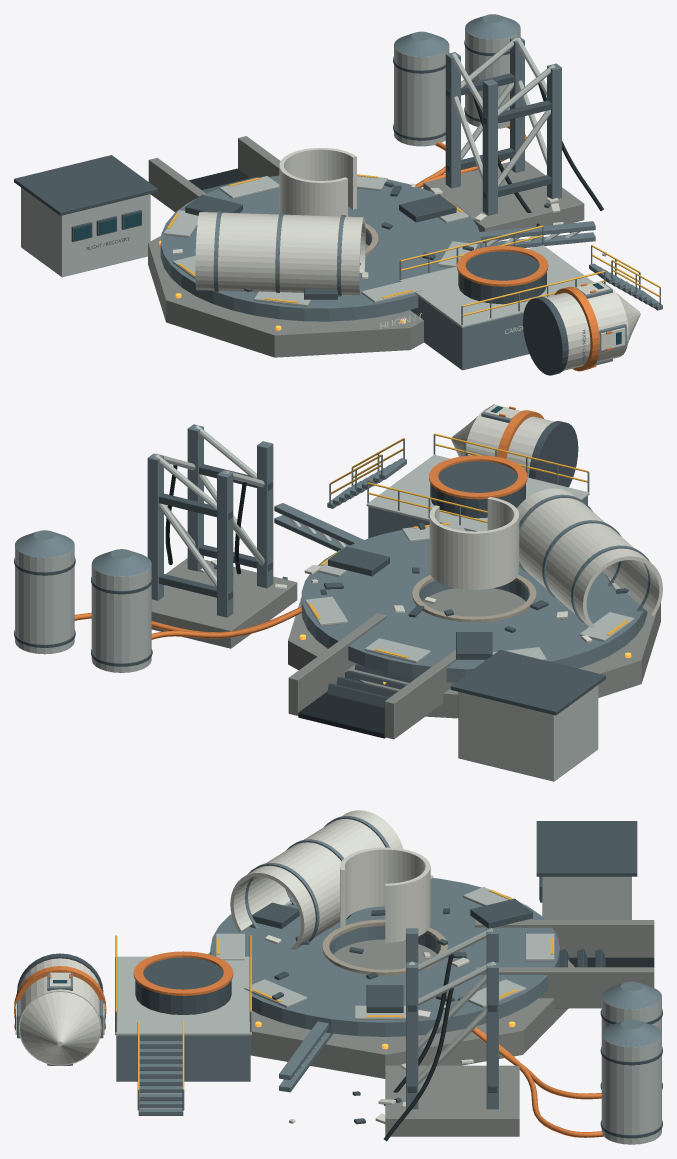
The model's file is hugin_launchpad_d3.glb.
3 renders of one model, top to bottom at view 1: azimuth 30°, elevation 25°; view 2: azimuth 150°, elevation 25°; view 3: azimuth 270°, elevation 25°, orthographic. The views are drawn at different scales.
Visible parts, largest first — view 1: Raised launch deck.003, Fallen open pressure hull, Octagonal launch foundation.003, Launch control shelter.003, Control shelter roof.003, Ruptured booster stump, Tower raft.003, Cargo receiving deck.003, Service pressure tank.006, Receiving deck surface.003, Cargo receiving pedestal.003, Cargo pressure hull.003 (+24 smaller); view 2: Raised launch deck.003, Fallen open pressure hull, Launch control shelter.003, Octagonal launch foundation.003, Tower raft.003, Ruptured booster stump, Control shelter roof.003, Service pressure tank.006, Service pressure tank.007, Cargo receiving pedestal.003, Receiving deck surface.003, Flame trench wall.007 (+29 smaller); view 3: Raised launch deck.003, Octagonal launch foundation.003, Fallen open pressure hull, Tower raft.003, Ruptured booster stump, Control shelter roof.003, Service pressure tank.007, Receiving deck surface.003, Cargo receiving deck.003, Flame trench wall.006, Launch control shelter.003, Cargo receiving pedestal.003 (+33 smaller).
Boxes of the visible parts, left/top/right/bottom form: Raised launch deck.003: left=160, top=175, right=481, bottom=321; Fallen open pressure hull: left=195, top=212, right=365, bottom=295; Octagonal launch foundation.003: left=148, top=236, right=481, bottom=357; Launch control shelter.003: left=21, top=187, right=150, bottom=277; Control shelter roof.003: left=14, top=155, right=157, bottom=215; Ruptured booster stump: left=279, top=147, right=356, bottom=216; Tower raft.003: left=423, top=160, right=584, bottom=242; Cargo receiving deck.003: left=410, top=296, right=529, bottom=370; Service pressure tank.006: left=394, top=47, right=449, bottom=146; Receiving deck surface.003: left=399, top=245, right=593, bottom=327; Cargo receiving pedestal.003: left=458, top=251, right=546, bottom=304; Cargo pressure hull.003: left=545, top=284, right=628, bottom=370; Raised launch deck.003: left=301, top=529, right=647, bottom=682; Fallen open pressure hull: left=517, top=488, right=662, bottom=627; Launch control shelter.003: left=458, top=685, right=598, bottom=781; Octagonal launch foundation.003: left=288, top=588, right=660, bottom=718; Tower raft.003: left=151, top=558, right=297, bottom=648; Ruptured booster stump: left=429, top=497, right=519, bottom=589; Control shelter roof.003: left=450, top=649, right=605, bottom=715; Service pressure tank.006: left=91, top=564, right=151, bottom=672; Service pressure tank.007: left=15, top=546, right=74, bottom=654; Cargo receiving pedestal.003: left=430, top=461, right=525, bottom=518; Receiving deck surface.003: left=366, top=454, right=589, bottom=531; Flame trench wall.007: left=288, top=613, right=386, bottom=715; Raised launch deck.003: left=210, top=878, right=559, bottom=1036; Octagonal launch foundation.003: left=208, top=939, right=574, bottom=1078; Fallen open pressure hull: left=230, top=810, right=403, bottom=949; Tower raft.003: left=385, top=1065, right=519, bottom=1136; Ruptured booster stump: left=340, top=847, right=430, bottom=942; Control shelter roof.003: left=536, top=821, right=637, bottom=876; Service pressure tank.007: left=601, top=1036, right=661, bottom=1144; Receiving deck surface.003: left=115, top=956, right=251, bottom=1035; Cargo receiving deck.003: left=116, top=1035, right=250, bottom=1081; Flame trench wall.006: left=475, top=920, right=654, bottom=957; Launch control shelter.003: left=542, top=876, right=631, bottom=919; Cargo receiving pedestal.003: left=135, top=957, right=231, bottom=1014.
Bounding box in the file's own units: 28.14 × 8.13 × 28.95.
